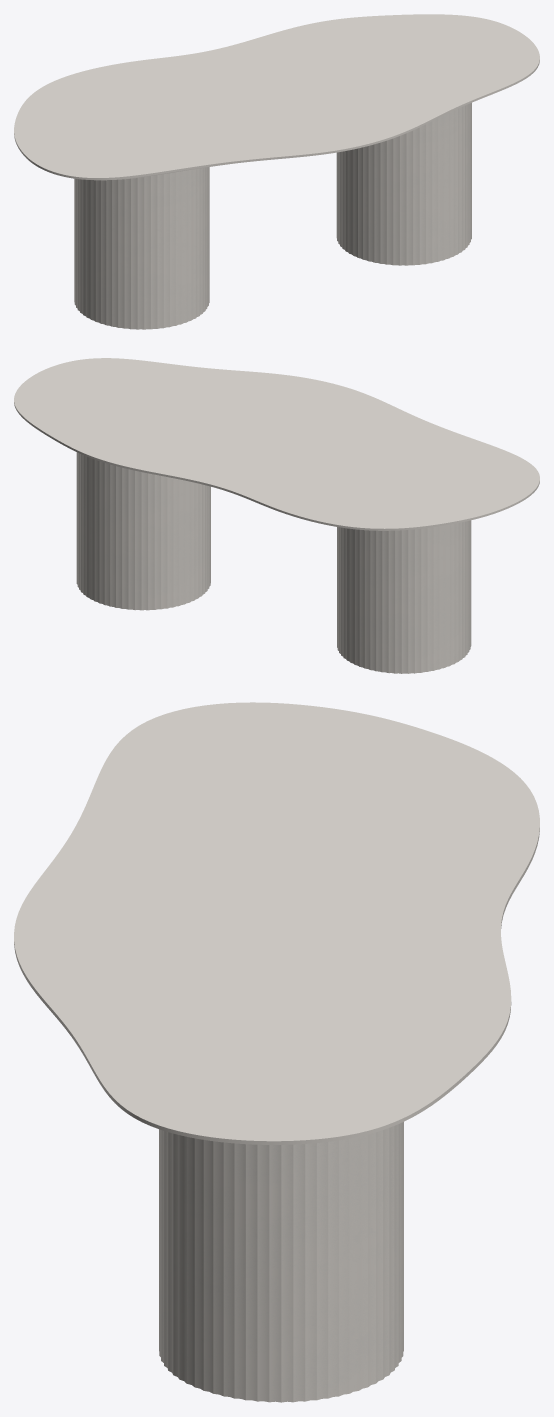
File: pearlwhite_toplast_facet_ripplesecond.glb
3 renders of one model, top to bottom at view 1: azimuth 30°, elevation 25°; view 2: azimuth 150°, elevation 25°; view 3: azimuth 270°, elevation 25°, orthographic. The views are drawn at different scales.
Visible parts, largest first — view 1: facet_toplast, ripplesecond; view 2: facet_toplast, ripplesecond; view 3: facet_toplast, ripplesecond.
Part boxes in pixels (x1,y1,x2,y2): facet_toplast: [14, 14, 539, 180]; ripplesecond: [74, 103, 471, 329]; facet_toplast: [14, 358, 539, 530]; ripplesecond: [76, 452, 471, 673]; facet_toplast: [14, 702, 539, 1144]; ripplesecond: [159, 1122, 403, 1402].
Bounding box in the file's own units: 7.5 × 2.5 × 3.8.
Materials: 1 (1 with a texture image).
